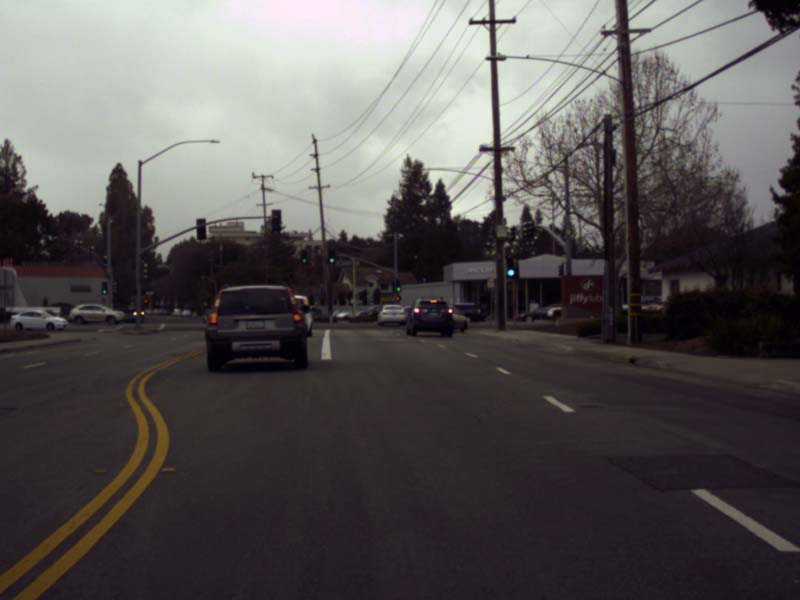Green: (506, 257, 514, 277), (328, 249, 334, 263), (101, 281, 107, 294), (301, 250, 306, 264), (396, 280, 400, 291)
